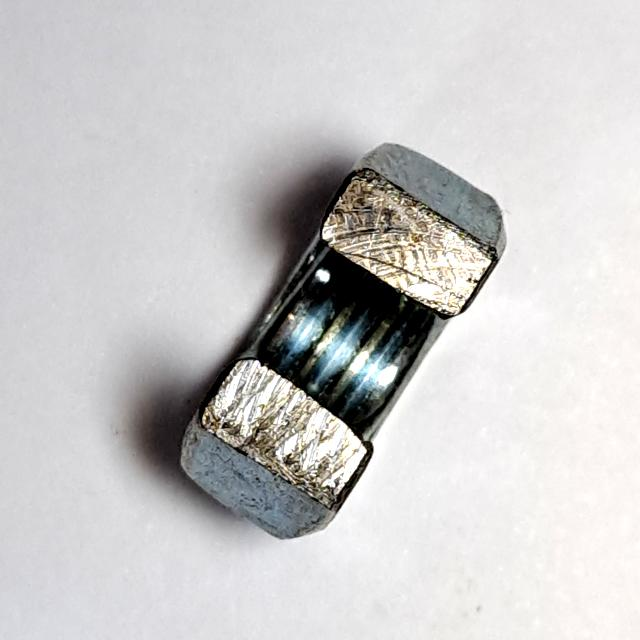Side-Fracture: (169, 132, 518, 551)
